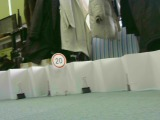speed_20: (50, 52, 67, 69)
